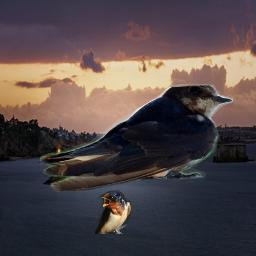Swallow: (40, 84, 233, 192), (95, 190, 131, 234)
